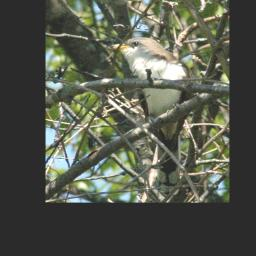Cuckoo: (105, 36, 196, 194)
